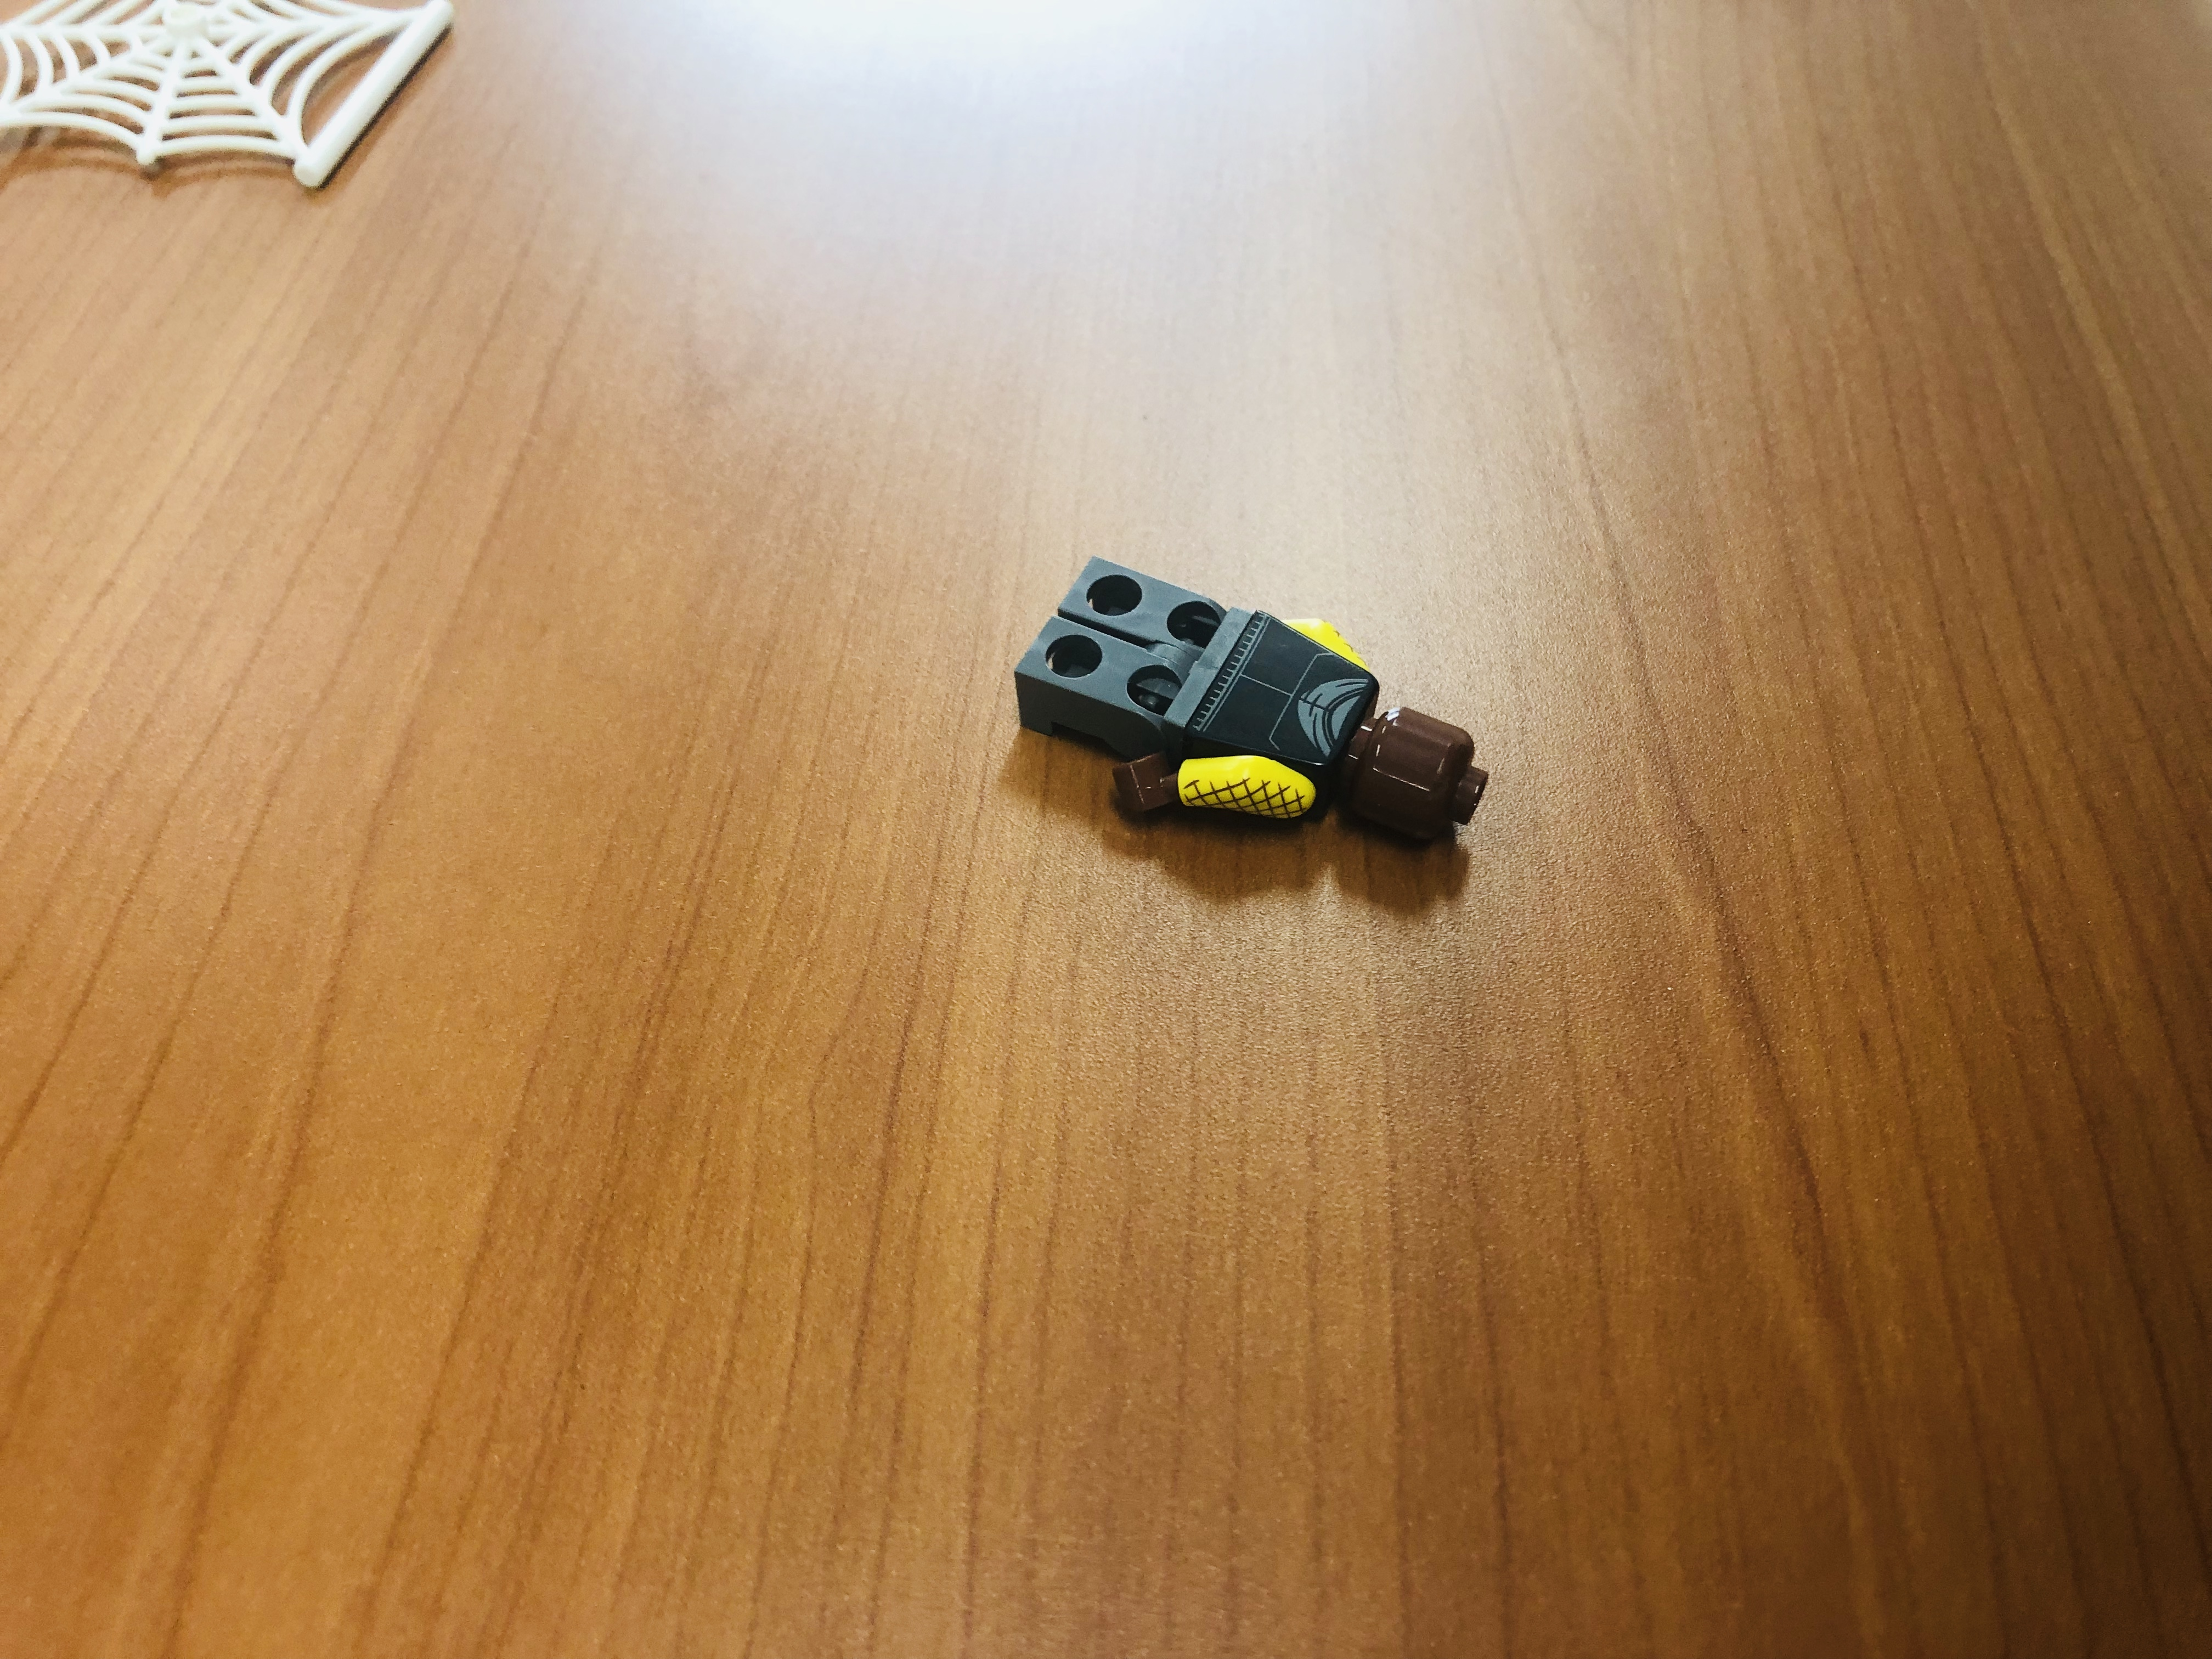people: (1011, 549, 1492, 849)
web: (1, 1, 459, 194)
